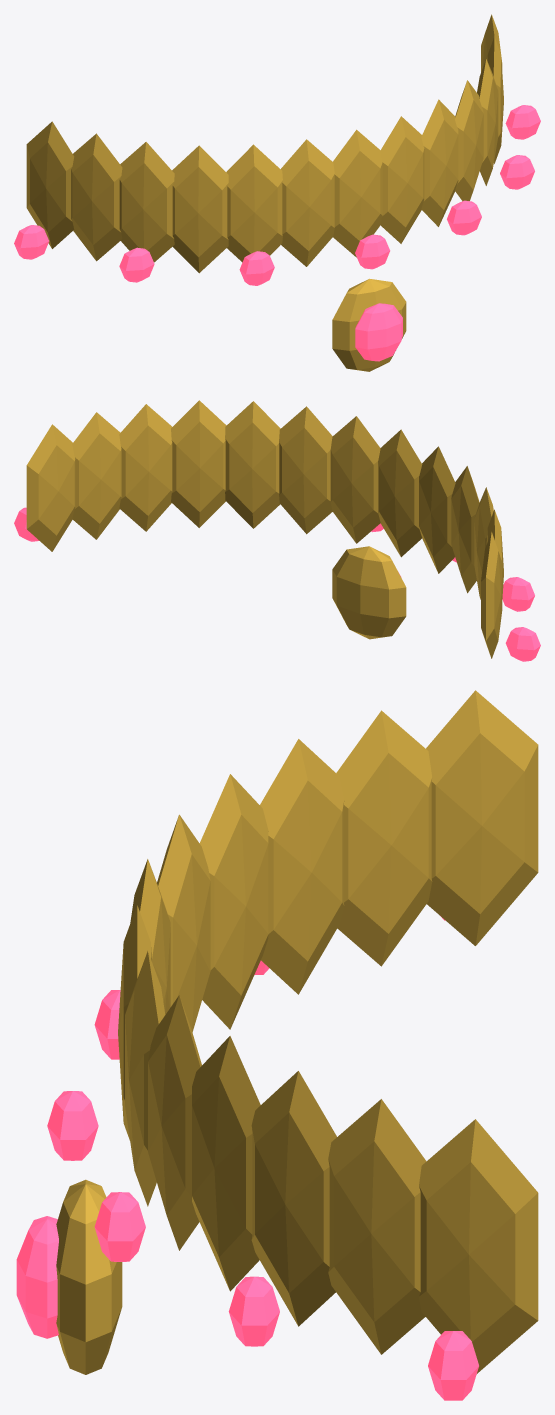
Rendered from naga_queen_jewels.glb.
3 views of the same model, one above another, from view 1: azimuth 30°, elevation 25°; view 2: azimuth 150°, elevation 25°; view 3: azimuth 270°, elevation 25° (orthographic). The views are drawn at different scales.
Visible parts, largest first — view 1: naga_queen_jewels; view 2: naga_queen_jewels; view 3: naga_queen_jewels.
Part boxes in pixels (x1,y1,x2,y2): naga_queen_jewels: (14, 14, 540, 371); naga_queen_jewels: (14, 400, 540, 661); naga_queen_jewels: (16, 690, 538, 1400).
Size of the model in its own units: 0.9353 by 0.4 by 0.4058.
